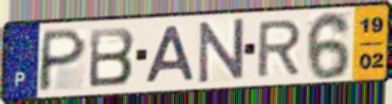6: (304, 9, 354, 82)
A: (142, 24, 198, 85)
B: (87, 25, 137, 89)
N: (197, 16, 246, 86)
P: (34, 26, 90, 93)
R: (255, 17, 304, 79)
